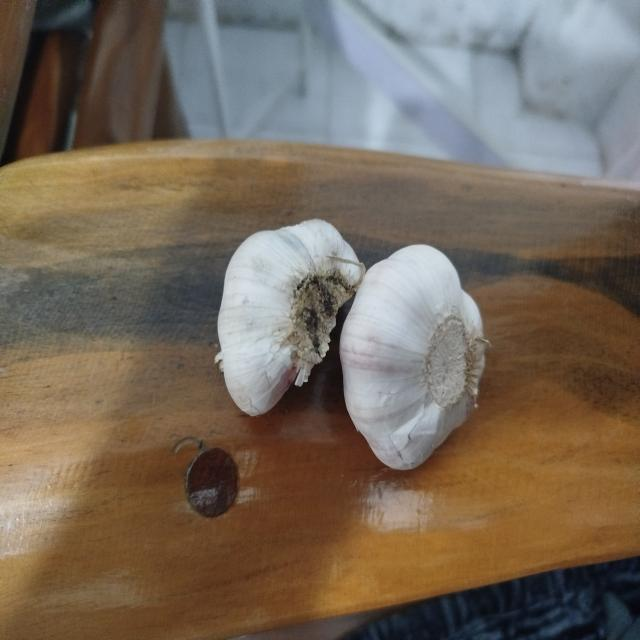garlic: (339, 243, 490, 471), (214, 217, 366, 417)
